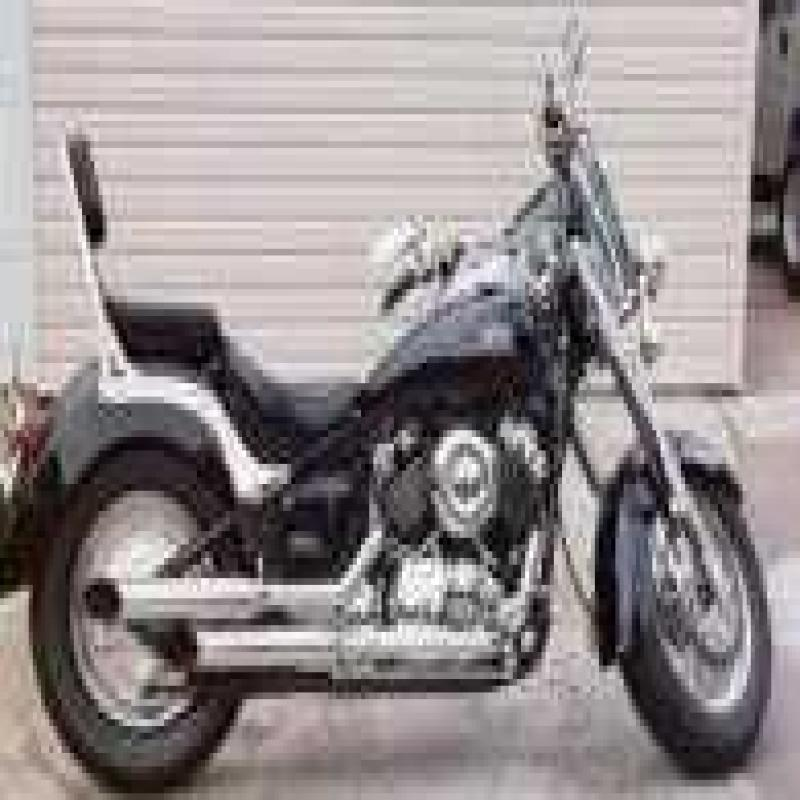bike: (4, 53, 800, 751)
